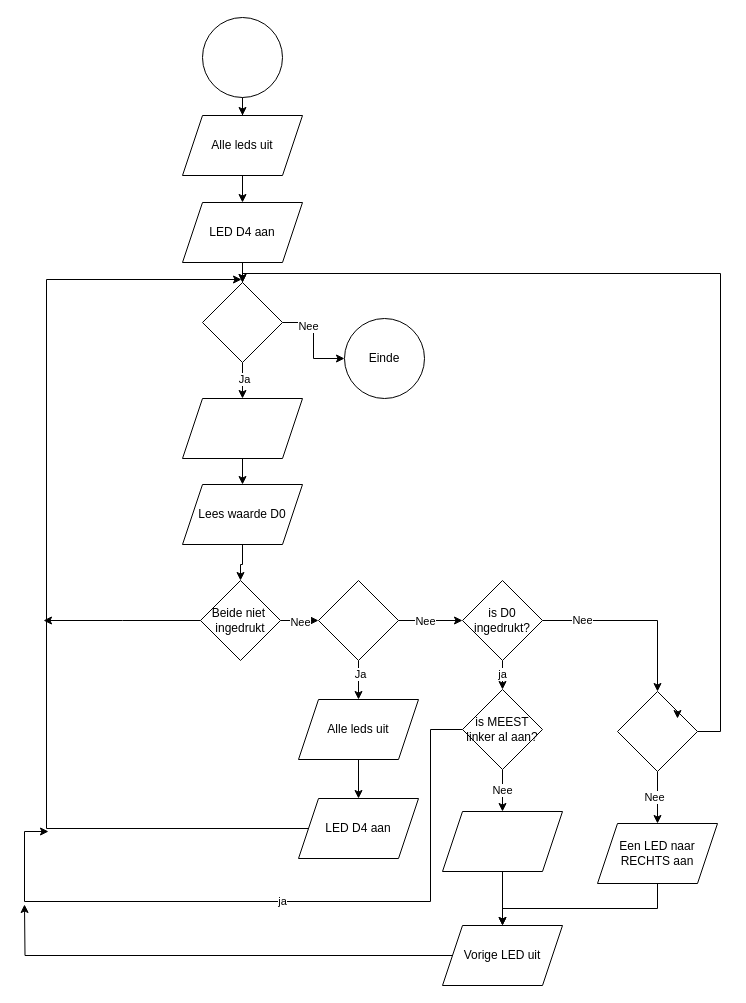
Some shapes in this 746 by 1003 pixel diagram are drawn without their labels. Each missing label, with the box of its shape:
Beide ingedrukt: (318, 580, 398, 660)
Een LED naar links aan: (442, 810, 562, 872)
Lees waarde D8: (182, 398, 302, 458)
Meest rechts aan?: (616, 690, 698, 772)
Start: (202, 16, 282, 98)
True: (202, 282, 282, 362)
